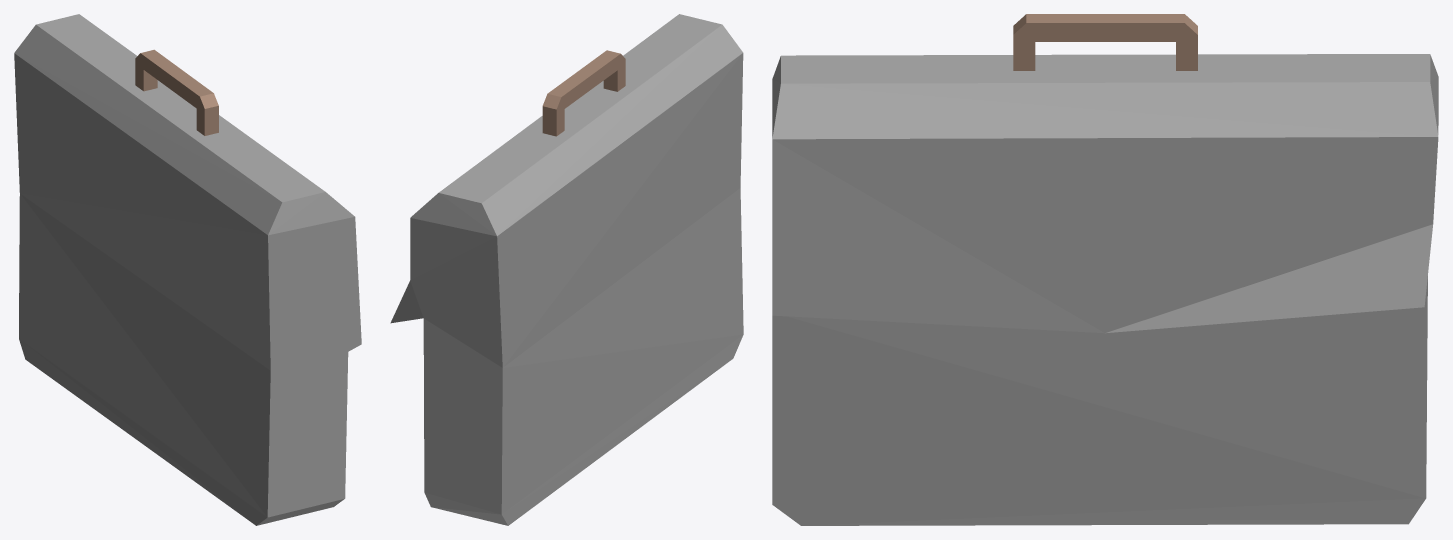
File: suitcase.fbx
The picture shows the model from 3 angles, left to right: view 1: azimuth 30°, elevation 25°; view 2: azimuth 150°, elevation 25°; view 3: azimuth 270°, elevation 25°; orthographic projection. The views are drawn at different scales.
Parts seen in each view (by area): view 1: polySurface2; view 2: polySurface2; view 3: polySurface2.
Boxes of the visible parts, x1,y1,x2,y2 form: polySurface2: (14, 14, 361, 525); polySurface2: (390, 14, 743, 525); polySurface2: (772, 14, 1438, 525).
Size of the model in its own units: 8.04 by 24.66 by 31.02.
